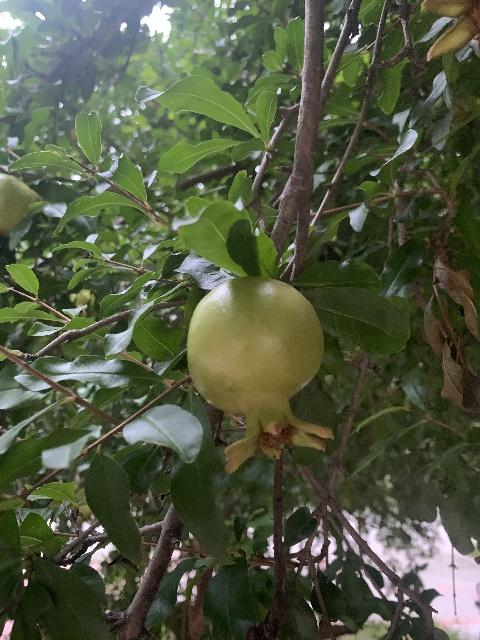mid-growth: (186, 276, 334, 473)
